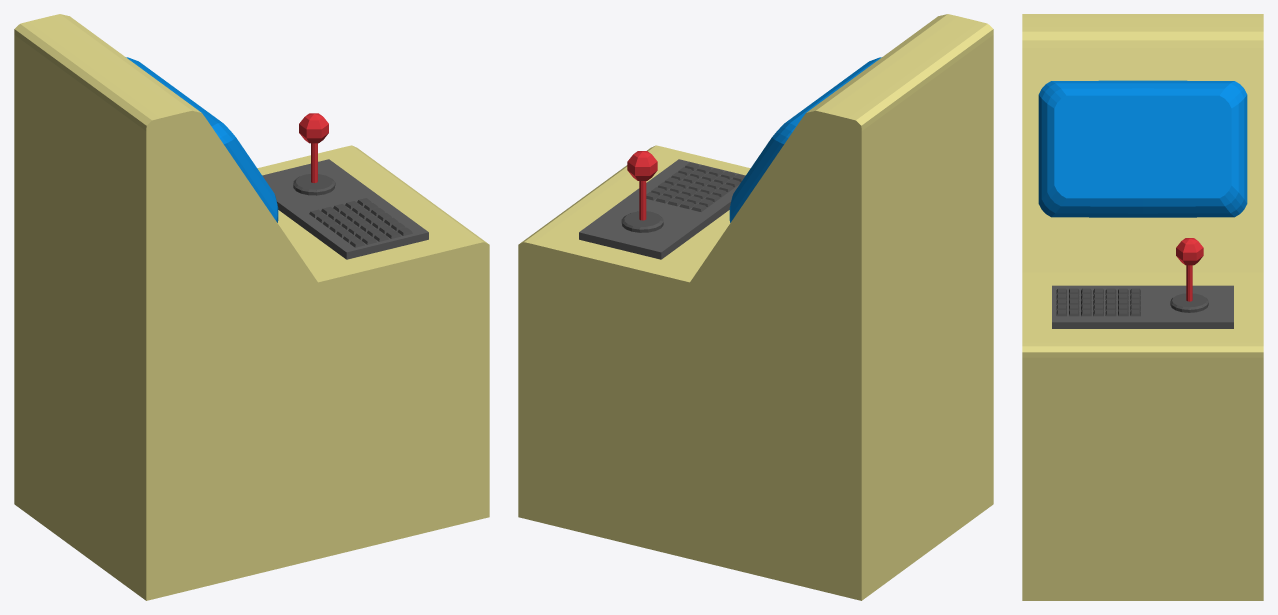
The picture shows the model from 3 angles, left to right: view 1: azimuth 30°, elevation 25°; view 2: azimuth 150°, elevation 25°; view 3: azimuth 270°, elevation 25°; orthographic projection. The views are drawn at different scales.
Parts seen in each view (by area): view 1: PC1; view 2: PC1; view 3: PC1.
Boxes of the visible parts, box(x1,y1,x2,y2) form: PC1: box(14, 14, 489, 600); PC1: box(518, 14, 993, 600); PC1: box(1022, 14, 1263, 600).
Size of the model in its own units: 3 by 4 by 2.
